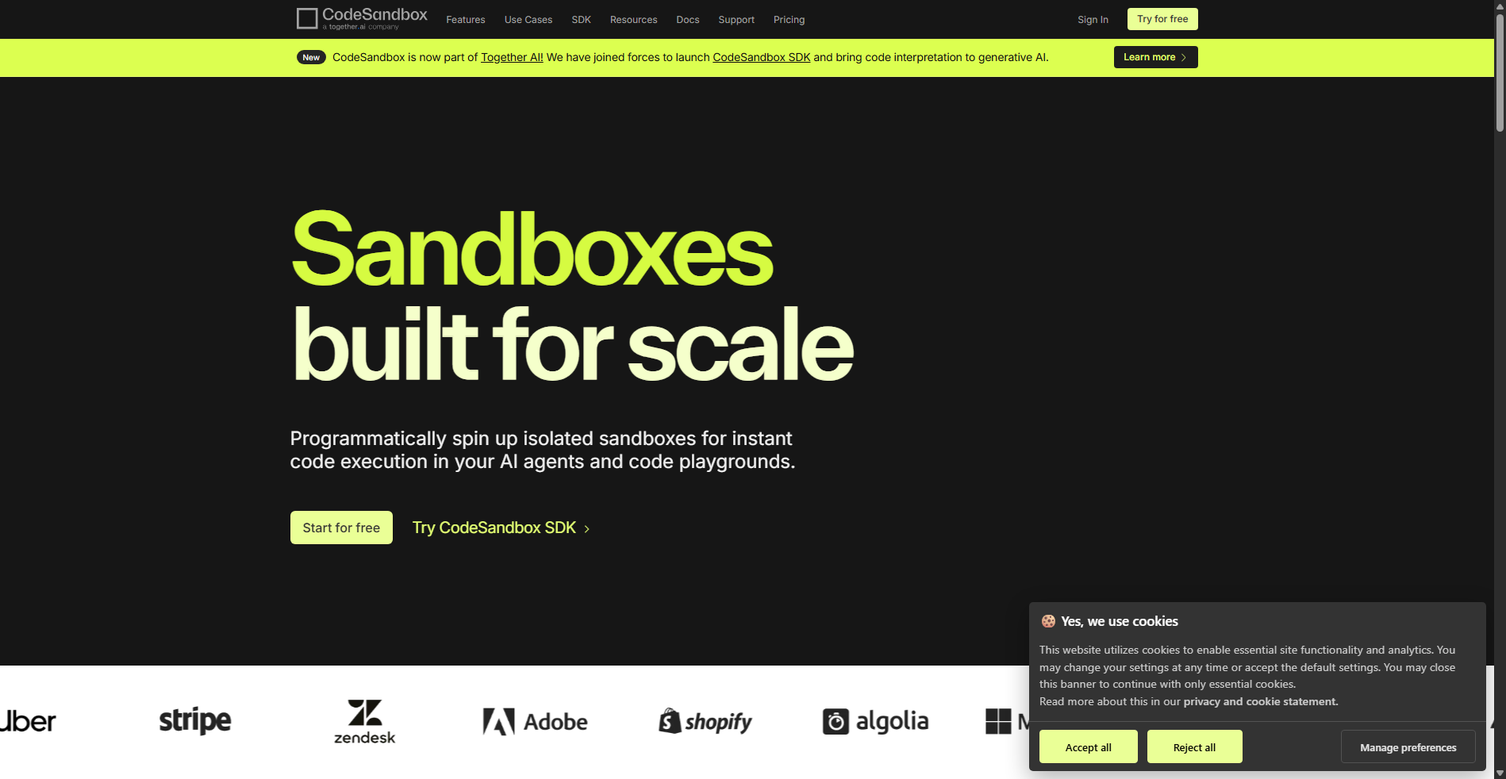button: (516, 216, 735, 251), (516, 57, 735, 91), (516, 97, 735, 131), (516, 137, 735, 171), (516, 177, 735, 211), (622, 57, 841, 91), (622, 97, 841, 131), (622, 137, 841, 171), (622, 177, 841, 211), (412, 511, 595, 544), (296, 0, 427, 38), (290, 511, 393, 544), (1184, 693, 1336, 708), (504, 0, 553, 38), (1114, 46, 1198, 68), (610, 0, 657, 38), (1128, 8, 1198, 30), (446, 0, 485, 38), (719, 0, 755, 38), (713, 50, 811, 63), (774, 0, 805, 38), (1078, 0, 1108, 38), (676, 0, 700, 38), (481, 50, 543, 63), (572, 0, 591, 38), (1336, 693, 1338, 708)
link: (1029, 721, 1486, 771), (1039, 730, 1242, 763), (1341, 730, 1476, 763), (1039, 730, 1138, 763), (1147, 730, 1242, 763)
toggle: (762, 681, 933, 761), (143, 681, 313, 761), (292, 681, 462, 761), (448, 681, 618, 761), (605, 681, 775, 761), (918, 681, 1088, 761), (1073, 681, 1243, 761), (1224, 681, 1394, 761), (0, 681, 166, 761), (1377, 681, 1506, 761), (0, 681, 15, 761)
